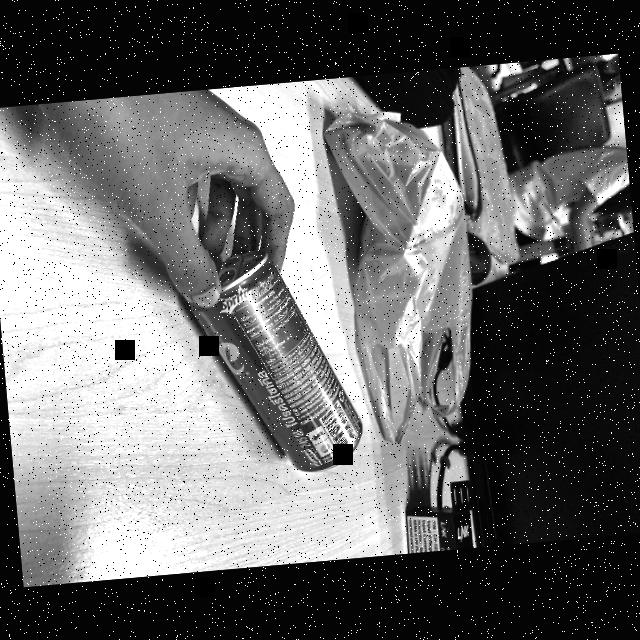can: (172, 233, 374, 498)
